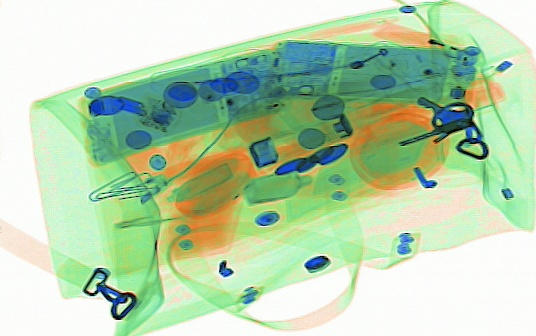lighter: (371, 20, 480, 63)
